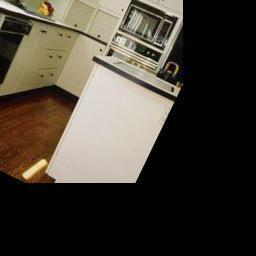Electrodomestico: (0, 10, 32, 110)
